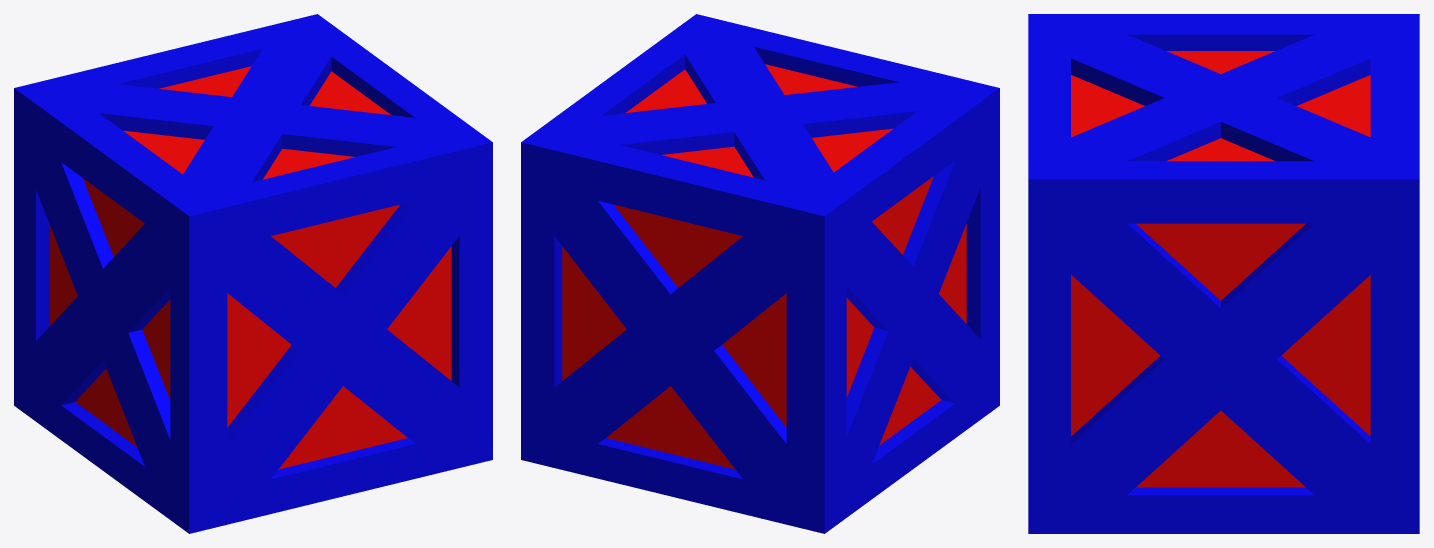
Rendered from crate.fbx.
3 views of the same model, side by side, from view 1: azimuth 30°, elevation 25°; view 2: azimuth 150°, elevation 25°; view 3: azimuth 270°, elevation 25° (orthographic). The views are drawn at different scales.
Visible parts, largest first — view 1: Cube; view 2: Cube; view 3: Cube.
Part boxes in pixels (<box>): Cube: <box>14,14,492,533</box>; Cube: <box>521,14,999,533</box>; Cube: <box>1028,14,1419,533</box>.
Bounding box in the file's own units: 866 × 866 × 866.
